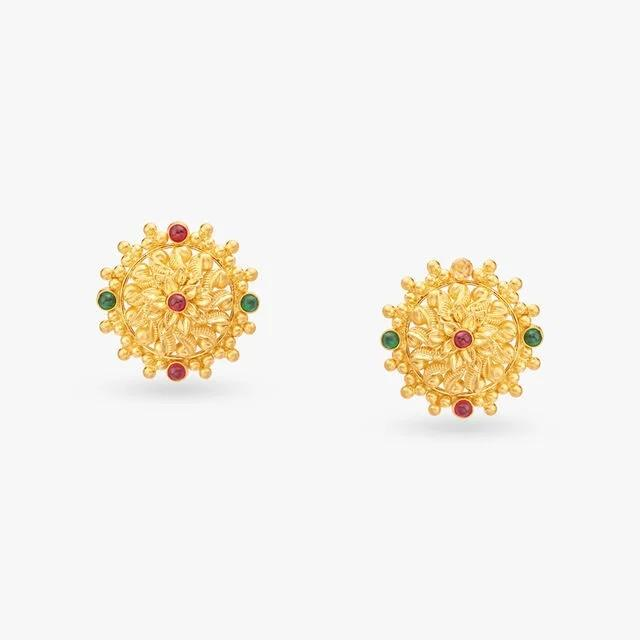missing gem: (452, 258, 473, 280)
